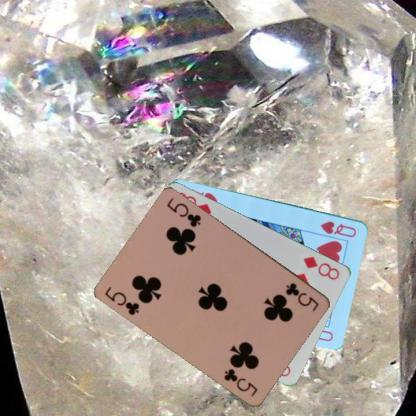5c: (102, 284, 141, 316), (283, 280, 321, 312)
8d: (301, 254, 341, 281)
Qh: (317, 218, 358, 238)
